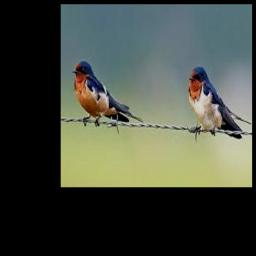Swallow: (70, 60, 143, 125), (187, 67, 251, 139)
